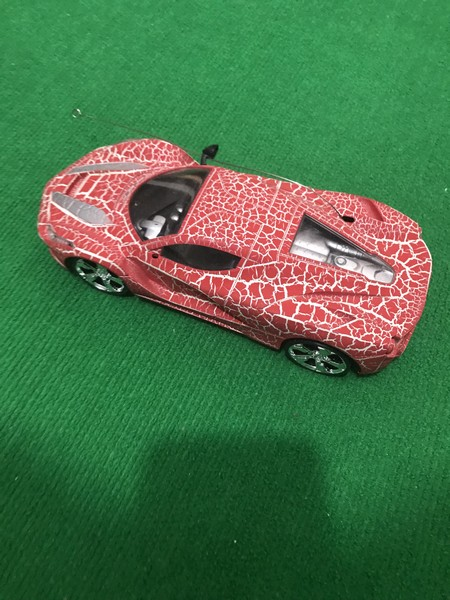RC: (33, 135, 435, 381)
